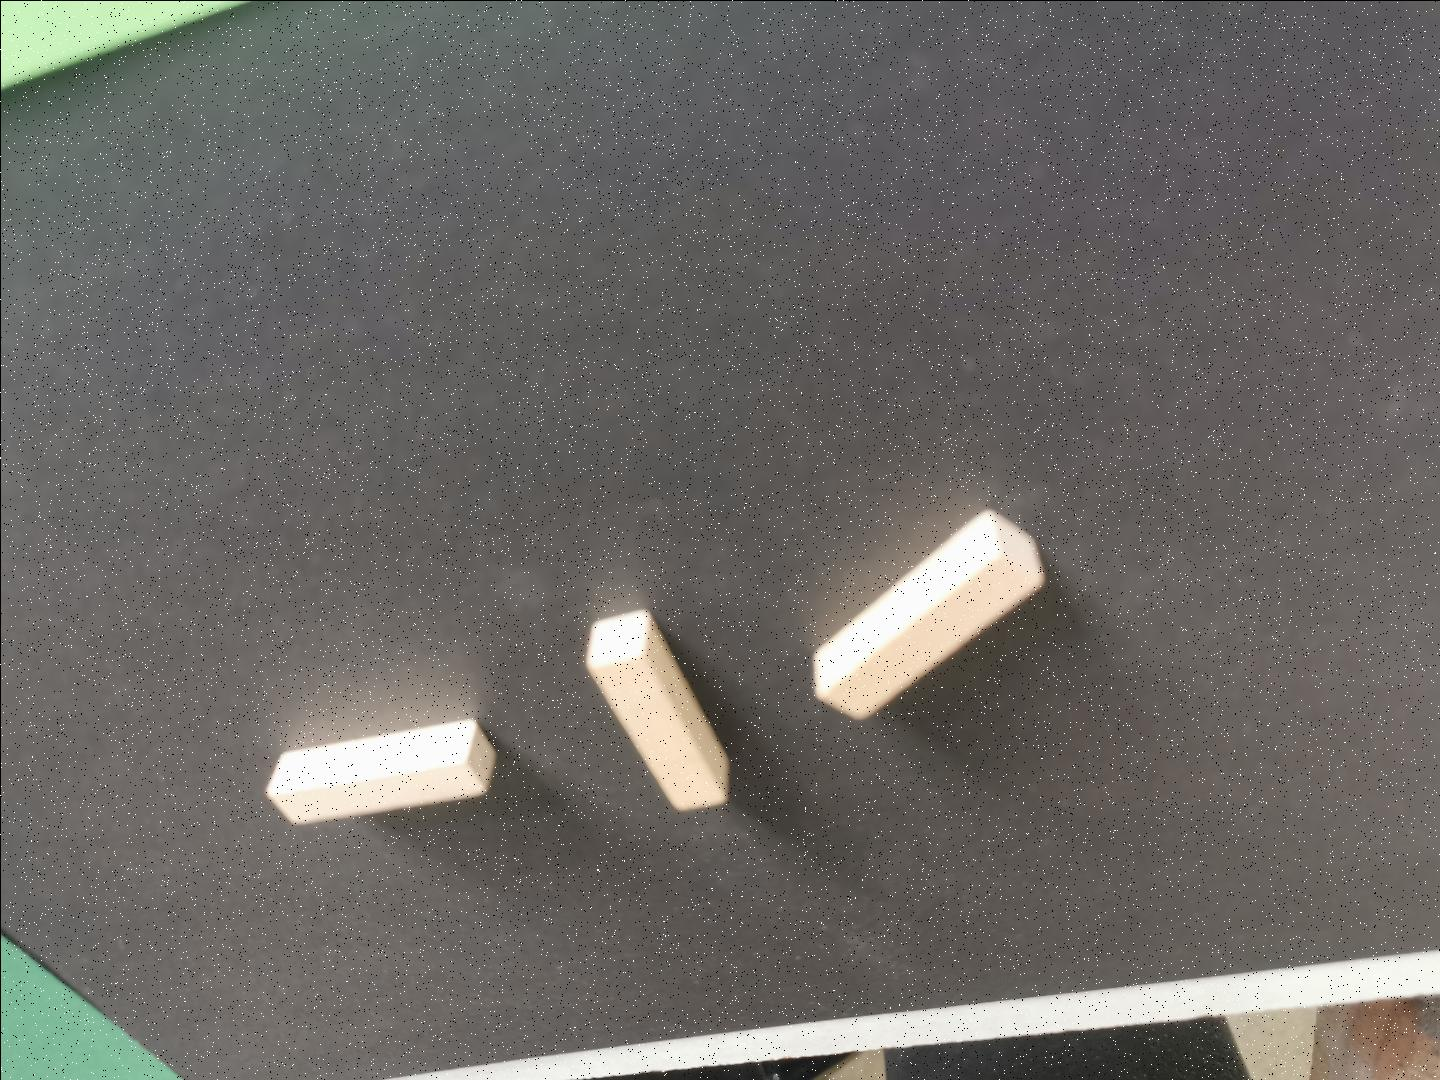jenga: (813, 509, 1043, 717), (585, 610, 728, 810), (264, 720, 495, 824)
